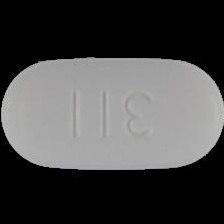66582-311: (0, 0, 224, 224)
